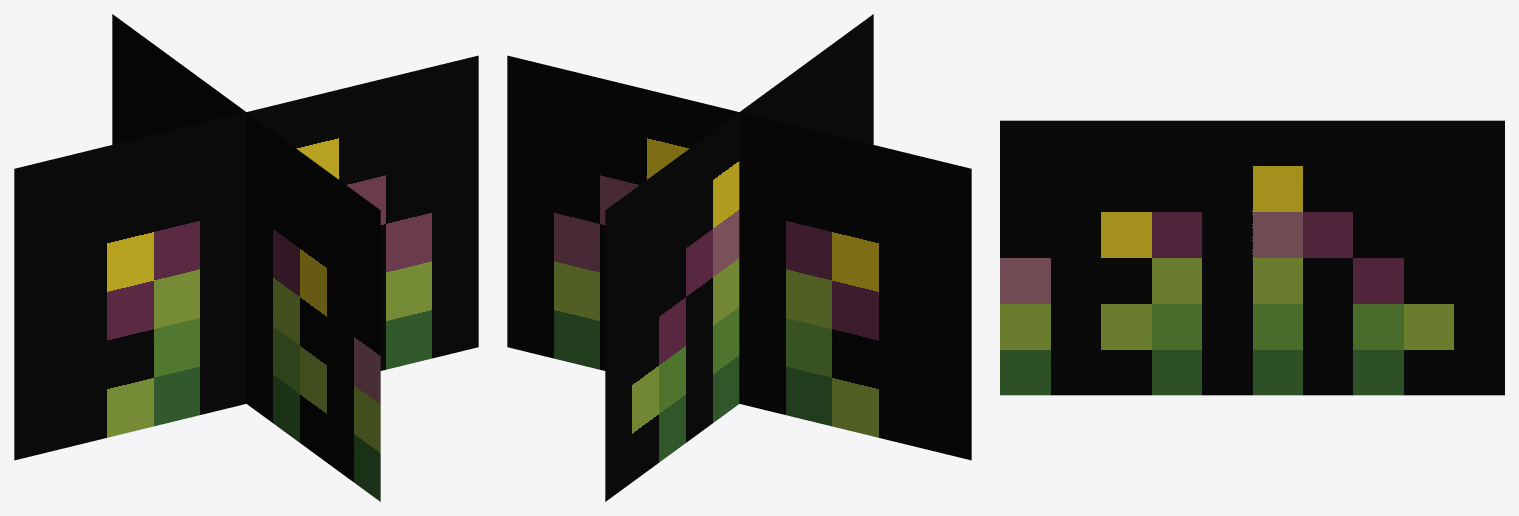
The model's file is HelleboreSprout.fbx.
The picture shows the model from 3 angles, left to right: view 1: azimuth 30°, elevation 25°; view 2: azimuth 150°, elevation 25°; view 3: azimuth 270°, elevation 25°; orthographic projection. The views are drawn at different scales.
Visible parts, largest first — view 1: plane; view 2: plane; view 3: plane.
Part boxes in pixels (x1,y1,x2,y2): plane: [14, 14, 478, 501]; plane: [507, 14, 971, 501]; plane: [1000, 120, 1504, 395].
Bounding box in the file's own units: 62.5 × 37.5 × 62.5.
1 material, 1 textured.
